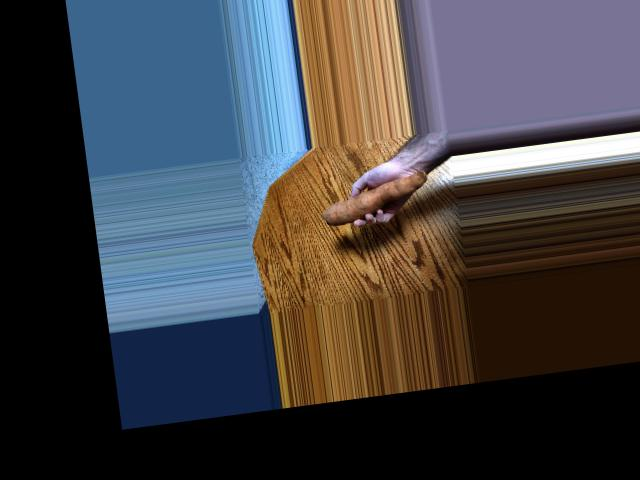sweet_potato: (324, 175, 426, 229)
